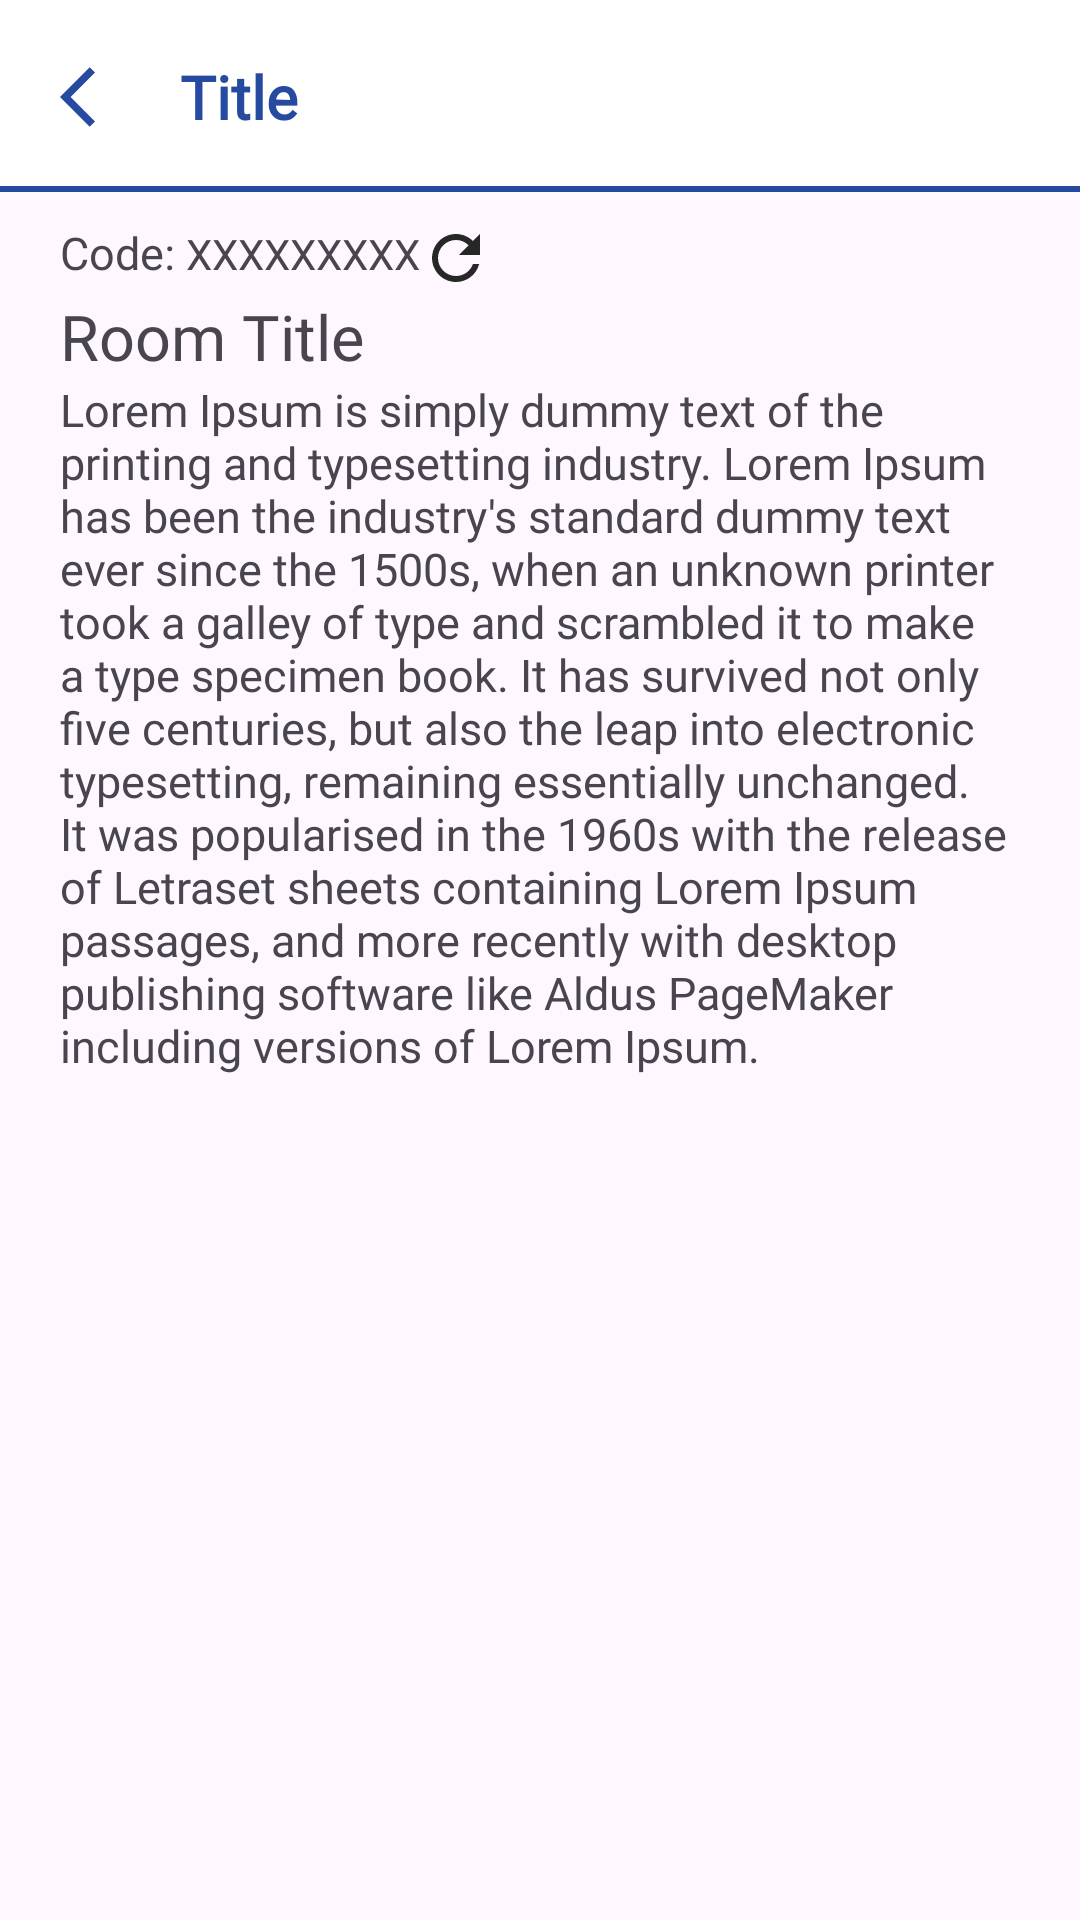

Screen size 1080 x 1920. Icon name, then its center in pixels as point (x, y):
arrow back: point (77, 97)
refresh: point (456, 258)
